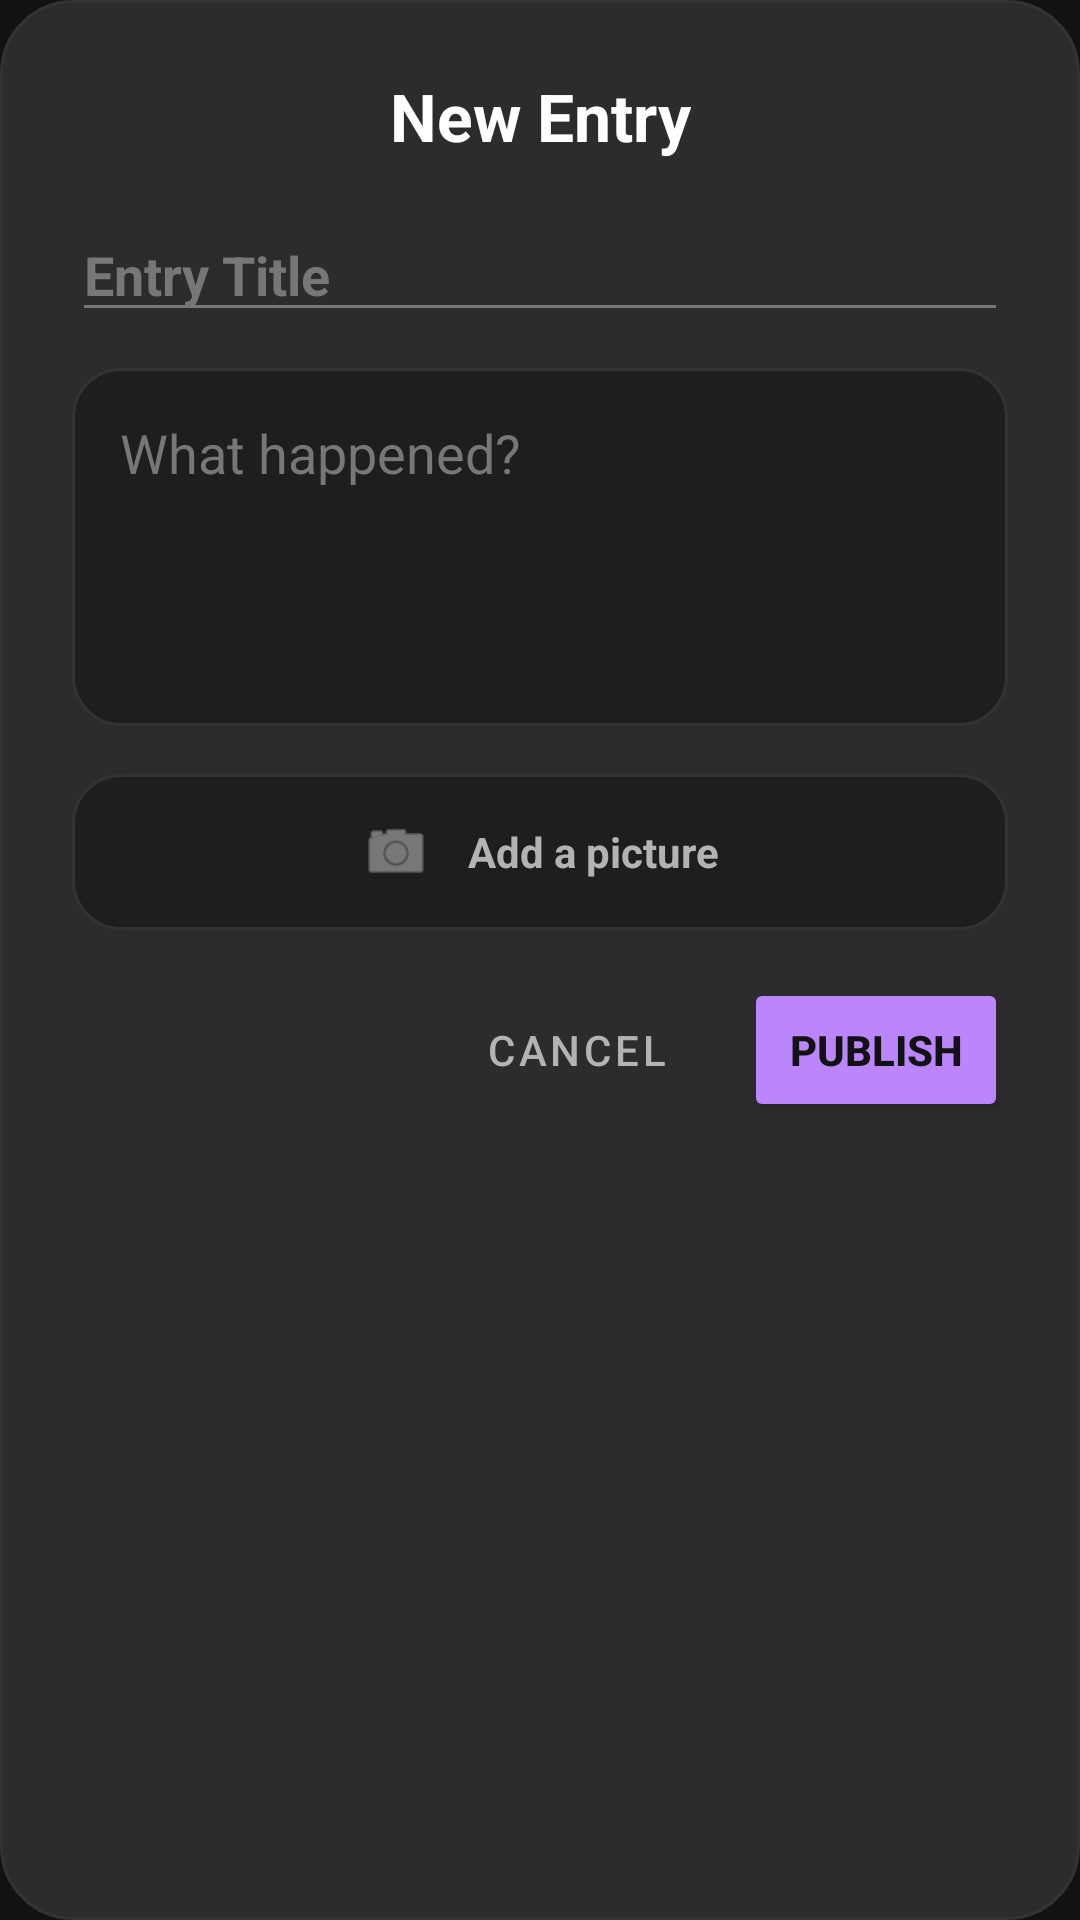

Icons on this 1080px×1920px Android screen, each with its box as [left=x1, top=y1, right=x2, bottom=y2]:
camera: [left=368, top=829, right=424, bottom=873]
